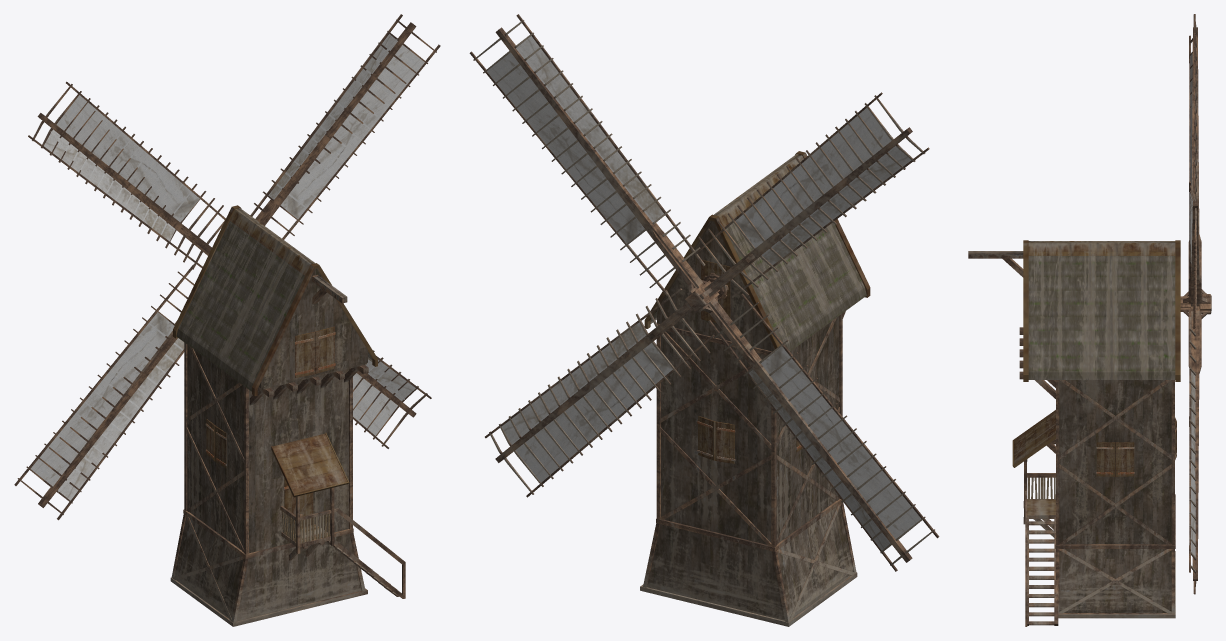
The model's file is windmill2.gltf.
3 renders of one model, left to right at view 1: azimuth 30°, elevation 25°; view 2: azimuth 150°, elevation 25°; view 3: azimuth 270°, elevation 25°, orthographic. The views are drawn at different scales.
Visible parts, largest first — view 1: Windmill, Windmill_wind.001; view 2: Windmill, Windmill_wind.001; view 3: Windmill, Windmill_wind.001.
Part boxes in pixels (box(x1,y1,x2,y2)): Windmill: box(170, 205, 405, 626); Windmill_wind.001: box(14, 14, 440, 520); Windmill: box(640, 151, 870, 626); Windmill_wind.001: box(469, 14, 939, 571); Windmill: box(968, 240, 1180, 626); Windmill_wind.001: box(1180, 14, 1211, 594).
Size of the model in its own units: 14.3 by 16.54 by 7.34.
1 material, 1 textured.
